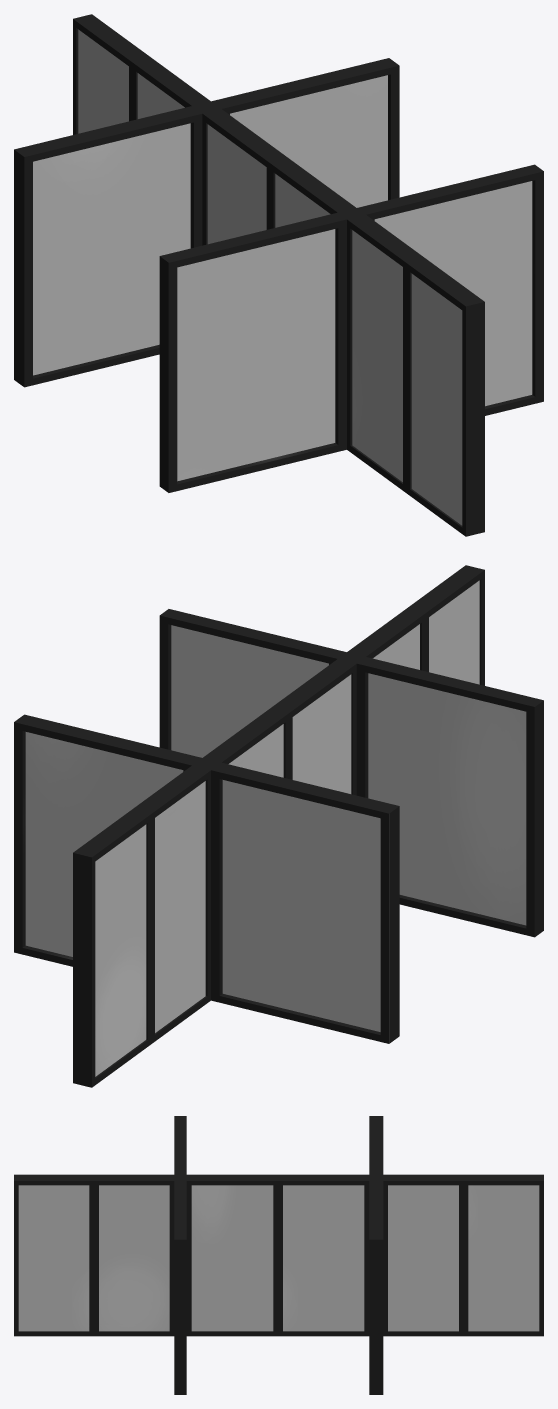
File: officeCubical.fbx
3 views of the same model, one above another, from view 1: azimuth 30°, elevation 25°; view 2: azimuth 150°, elevation 25°; view 3: azimuth 270°, elevation 25° (orthographic). The views are drawn at different scales.
Parts seen in each view (by area): view 1: Cube; view 2: Cube; view 3: Cube.
Part boxes in pixels (bbox=[...]): Cube: bbox=[14, 14, 543, 536]; Cube: bbox=[14, 565, 543, 1087]; Cube: bbox=[14, 1116, 543, 1394].
Size of the model in its own units: 496 by 291 by 899.
